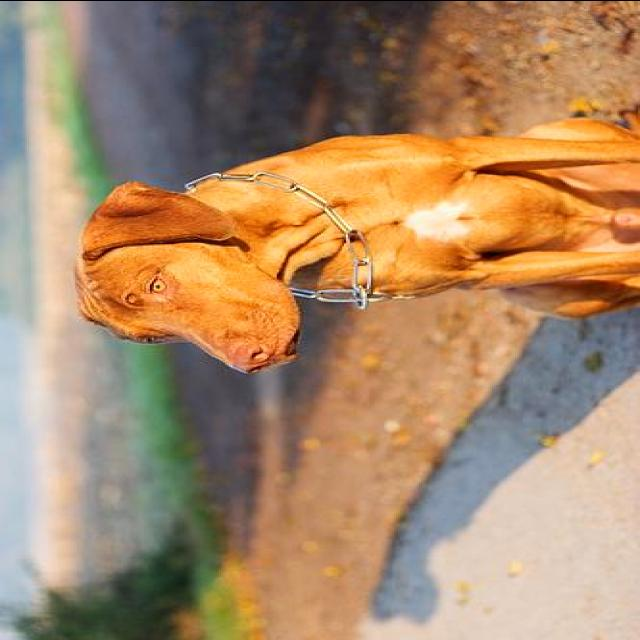rhodesian_ridgeback: (64, 111, 638, 378)
